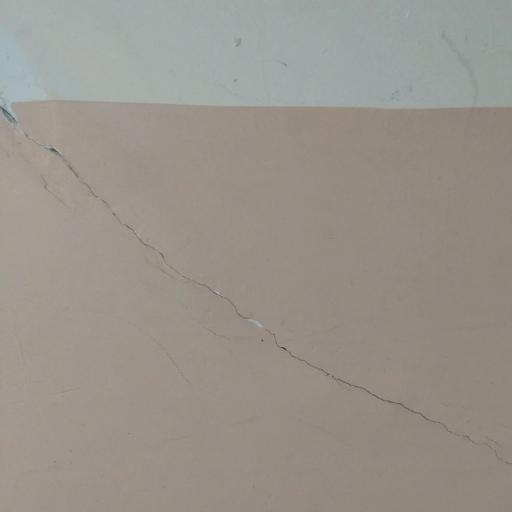minor_crack: (0, 92, 512, 476)
